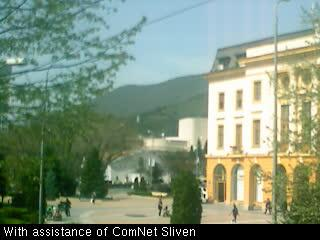person: (263, 197, 272, 215), (231, 203, 239, 223), (64, 197, 72, 216), (201, 187, 208, 204), (157, 198, 163, 217), (90, 192, 97, 206), (163, 206, 171, 217)
